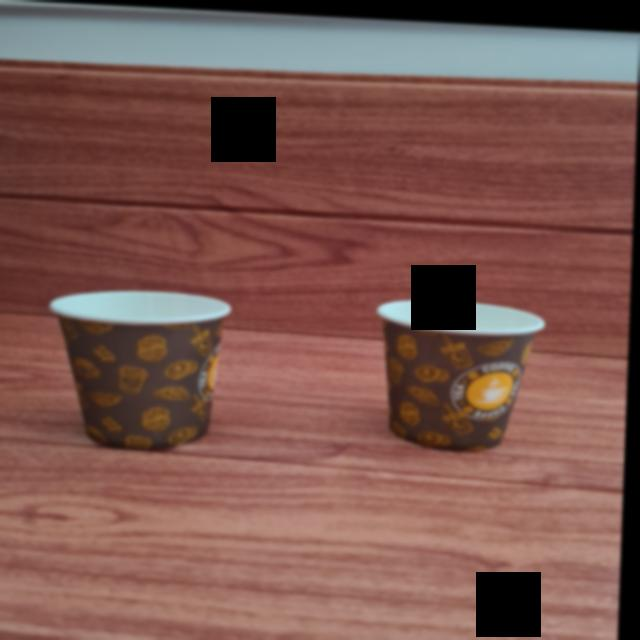cups: (45, 285, 234, 454), (376, 289, 551, 452)
